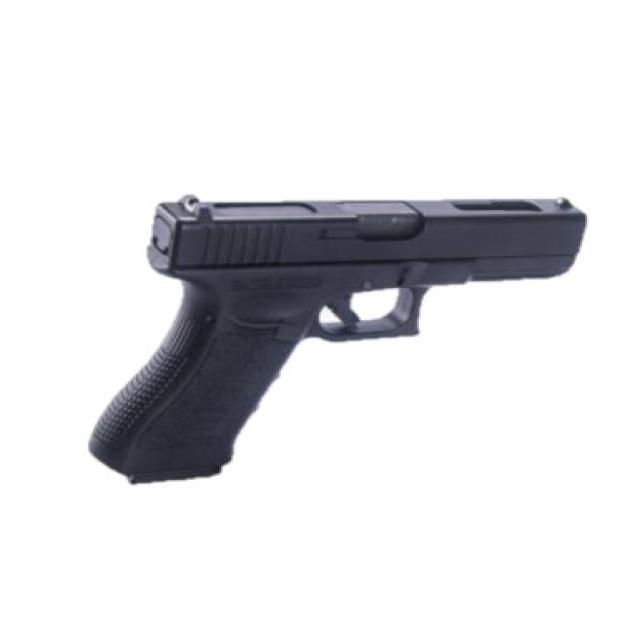pistol: (84, 192, 611, 492)
